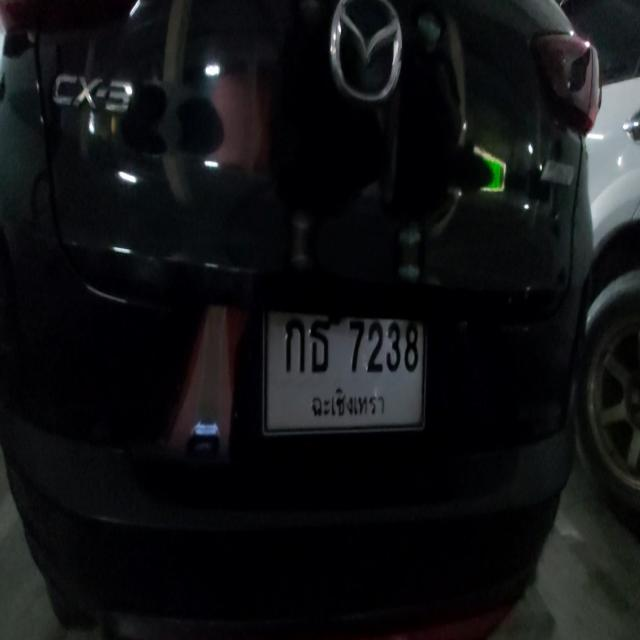license_plate: (267, 307, 424, 438)
